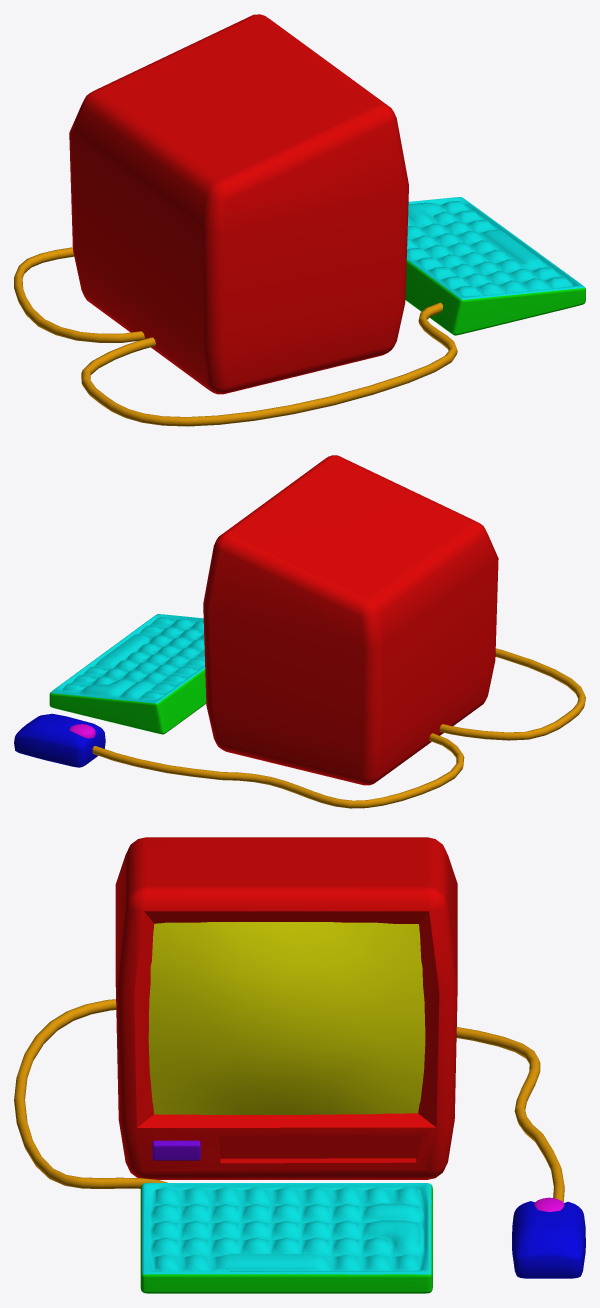
Rendered from computer-transformed.glb.
3 views of the same model, one above another, from view 1: azimuth 30°, elevation 25°; view 2: azimuth 150°, elevation 25°; view 3: azimuth 270°, elevation 25° (orthographic). The views are drawn at different scales.
Parts seen in each view (by area): view 1: Base_Computer_0; view 2: Base_Computer_0; view 3: Base_Computer_0.
Boxes of the visible parts, bbox=[...] form: Base_Computer_0: bbox=[14, 14, 585, 426]; Base_Computer_0: bbox=[14, 455, 585, 808]; Base_Computer_0: bbox=[14, 837, 585, 1293].
Bounding box in the file's own units: 0.6794 × 0.3378 × 0.5985.
